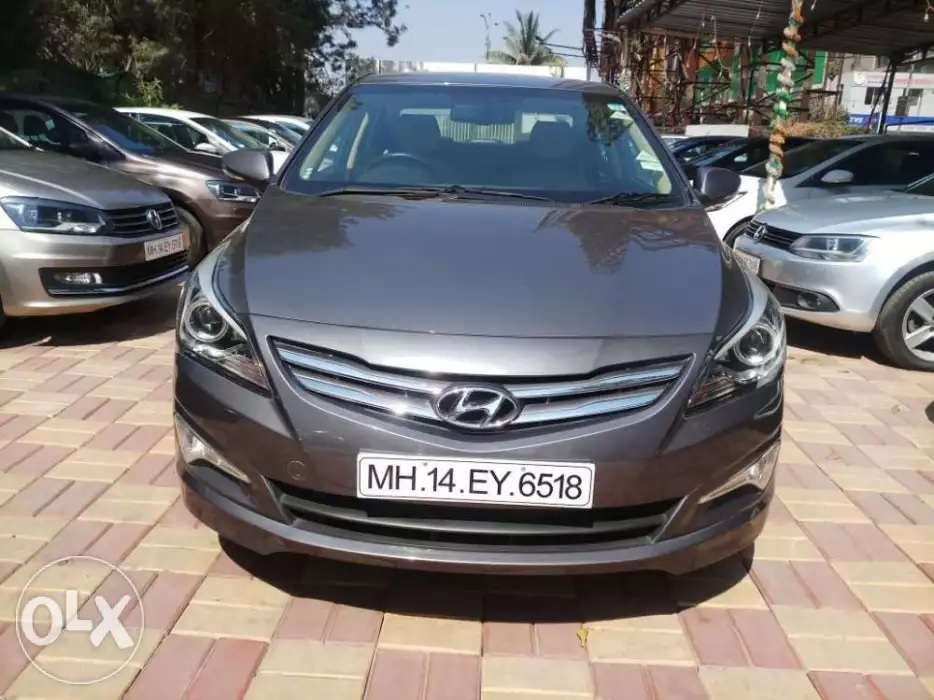licenseplate: (353, 447, 597, 514)
